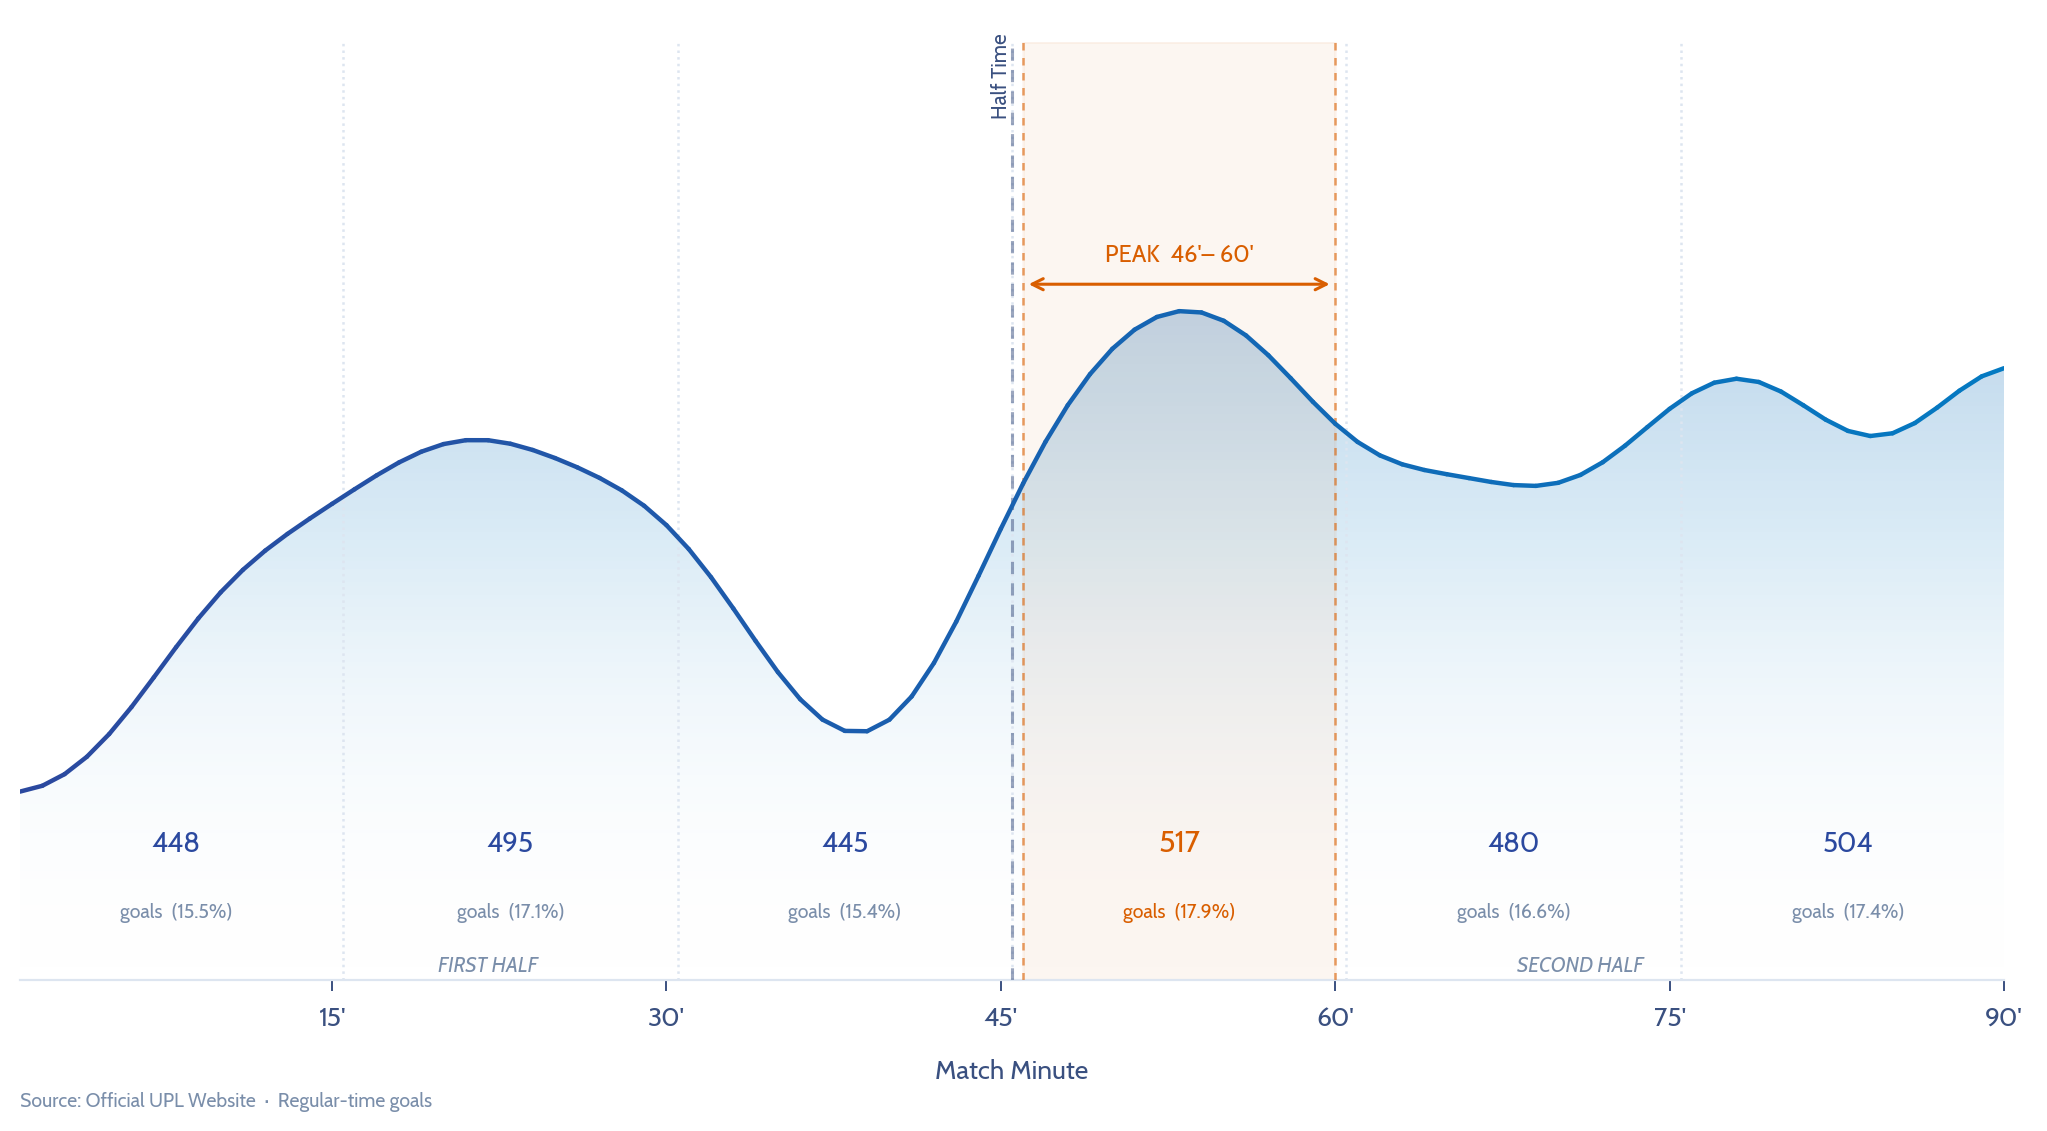

Layout of this report page (visuals, bound fields, positions):
{"tool":"powerbi","page":{"name":"Page 1","canvas":[1280,720],"ordinal":0},"visuals":[{"type":"RidgeLineChartEC035784AF61453AB27C2E272A3BC5FE","title":"Most goals are scored just after the half time break","fields":{"yAxis":["upl_goals_2019_2025_final. season "],"value":["CountNonNull(upl_goals_2019_2025_final. goal_minute_num)"],"xAxis":["upl_goals_2019_2025_final. goal_interval"]},"box":[13.6,0,1266.1,720],"z":0}]}

Visuals, with their boxes in screenshot pixels (x1, y1, x2, y2), scaled from the page's 1280x720 canvas onto the 2047x1131 screenshot:
"Most goals are scored just after the half time break" RidgeLineChartEC035784AF61453AB27C2E272A3BC5FE: pyautogui.locateOnScreen(22, 0, 2046, 1130)
